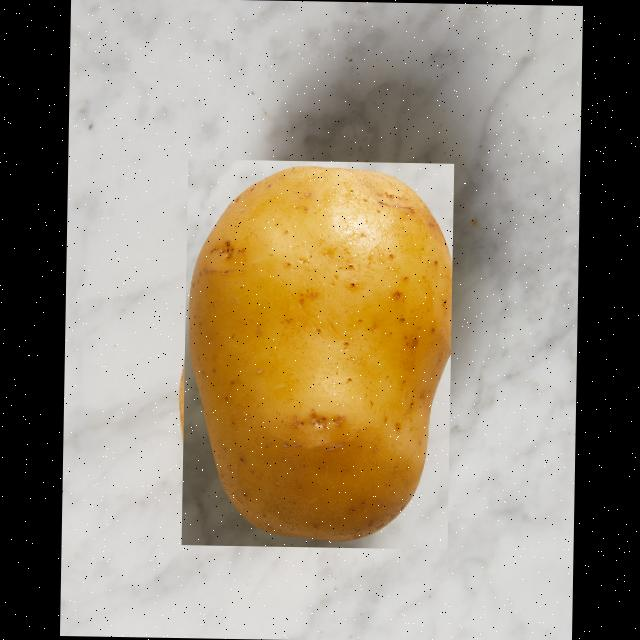Potato: (180, 157, 453, 548)
